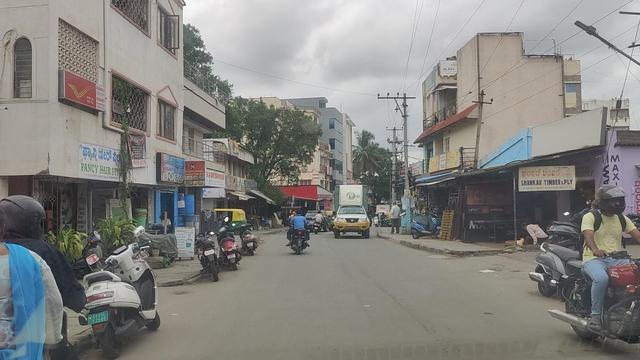HMV: (332, 186, 370, 237)
LMV: (563, 181, 640, 342), (290, 204, 312, 261)
